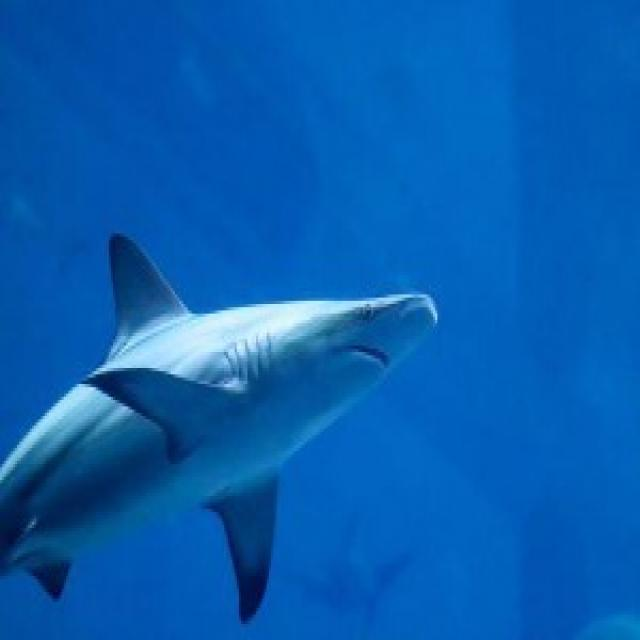Shark: (2, 208, 441, 622)
